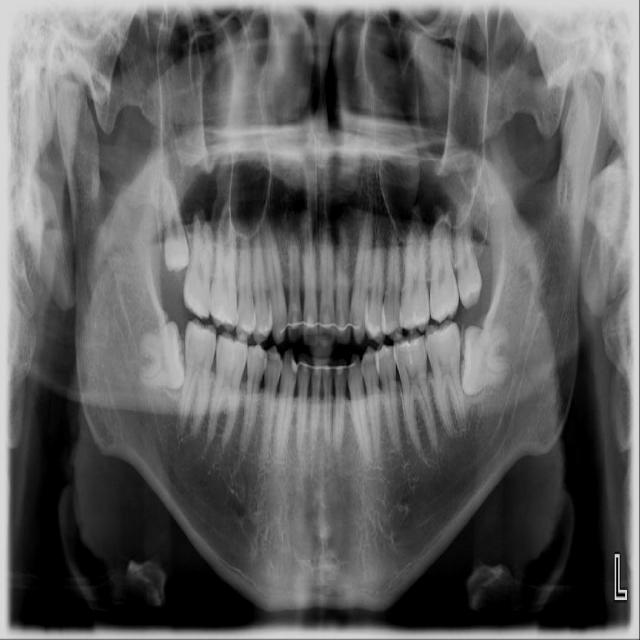impacted tooth: (134, 318, 186, 388), (461, 324, 512, 393), (158, 173, 188, 270)
